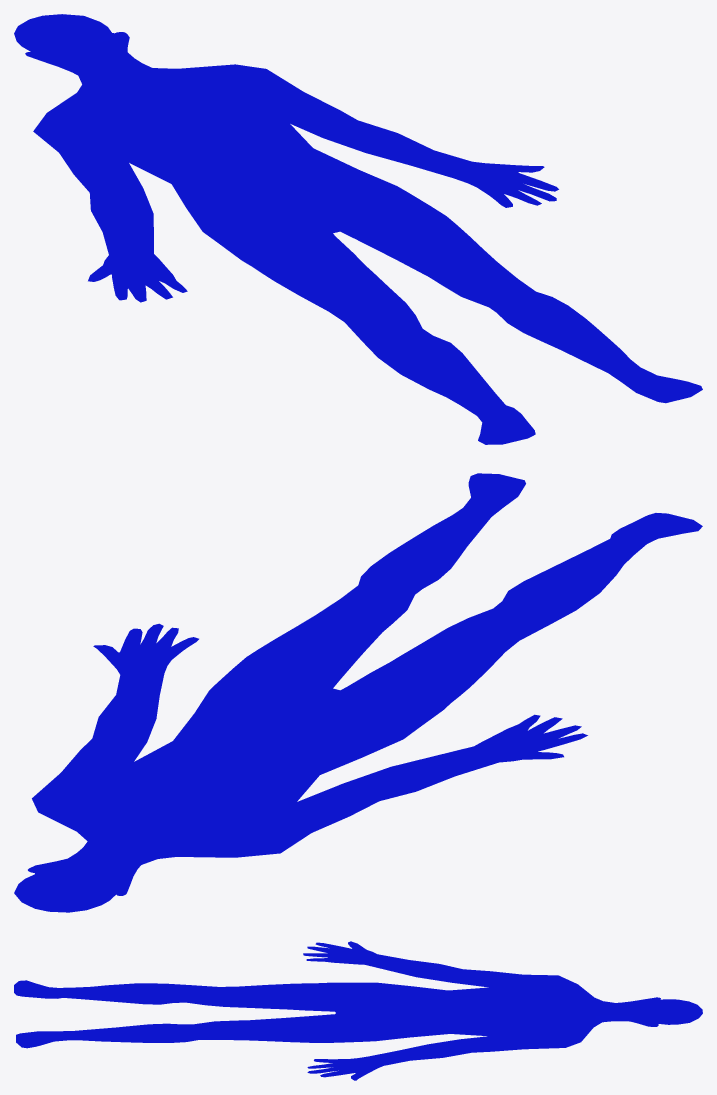
File: StaticManCutout.glb
3 renders of one model, top to bottom at view 1: azimuth 30°, elevation 25°; view 2: azimuth 150°, elevation 25°; view 3: azimuth 270°, elevation 25°, orthographic. The views are drawn at different scales.
Parts seen in each view (by area): view 1: Plane; view 2: Plane; view 3: Plane.
Part boxes in pixels (x1=…): Plane: x1=14, y1=14, x2=702, y2=444; Plane: x1=14, y1=473, x2=702, y2=912; Plane: x1=14, y1=941, x2=702, y2=1080.
Bounding box in the file's own units: 43.32 × 0.00437 × 90.5.
